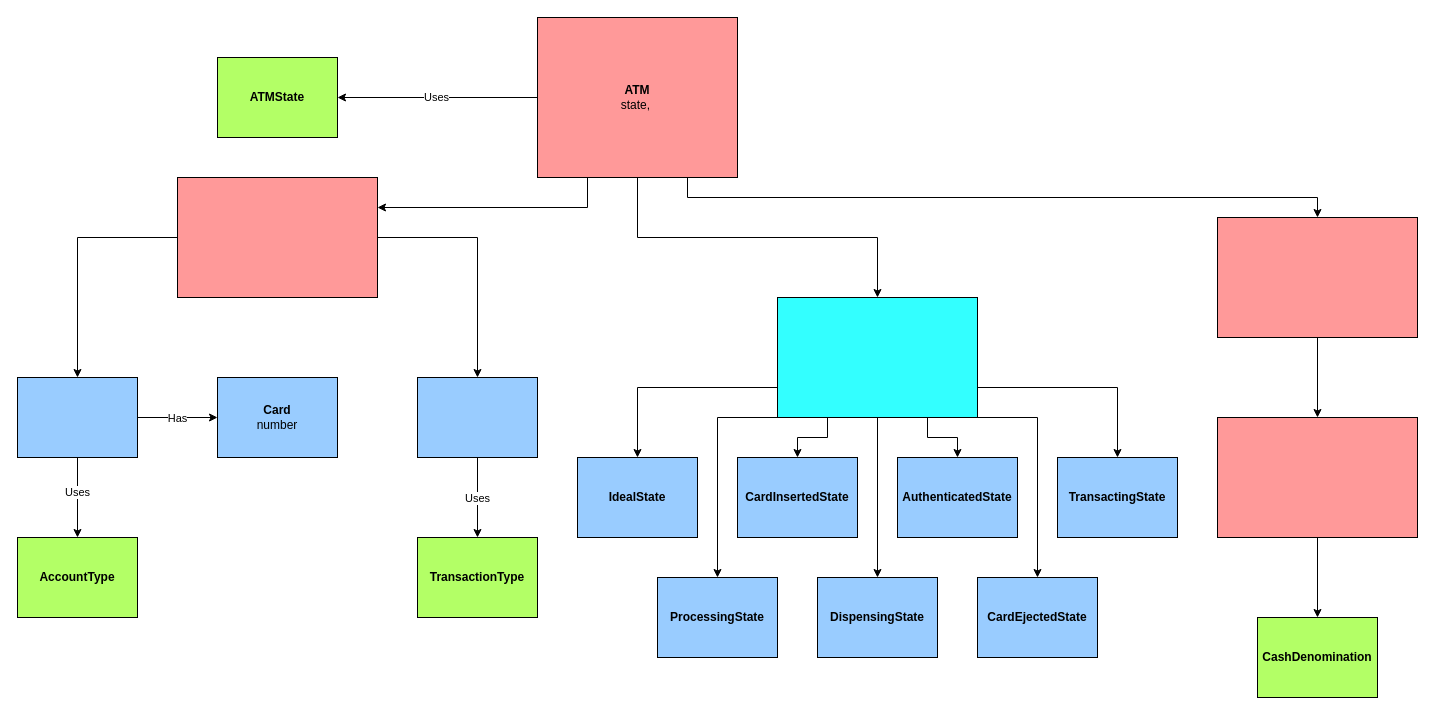
The diagram is 1435 pixels wide and 715 high, and some of its shapes have lost their labels. Here are the shapes that lost their labels. From the top down, the centre of each, then its label:
At (x=277, y=237): "BankServer map[User]Account, map[Card]string".
At (x=1317, y=277): "CashDispenser".
At (x=877, y=357): "<<interface>> ATMStateHandler".
At (x=77, y=417): "Account number, accType, card, balance".
At (x=477, y=417): "Transaction trxnType, amount, timestamp".
At (x=1317, y=477): "DenominationHandler".
